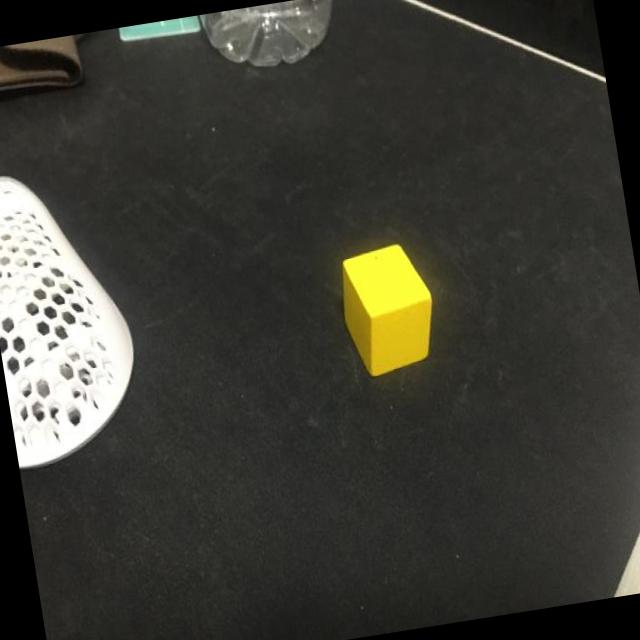yellow: (336, 239, 442, 380)
